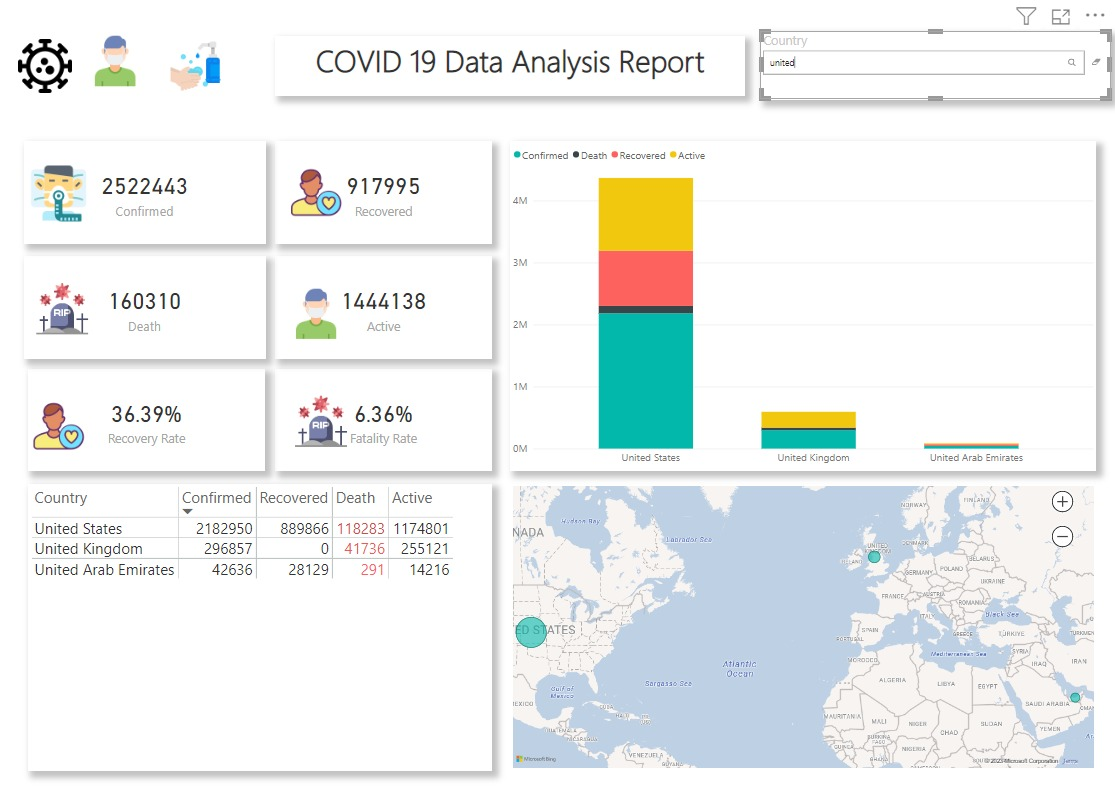

The page's visual inventory and layout, read from the dashboard file:
{"tool":"powerbi","page":{"name":"DataAnalysis Covid","canvas":[1800,1300],"ordinal":0},"visuals":[{"type":"card","fields":{"Values":["Sum(countries.Recovered)"]},"box":[448.5,232.2,347.3,164.7],"z":0},{"type":"card","fields":{"Values":["Sum(countries.Death)"]},"box":[45.6,416.8,387,164.7],"z":1000},{"type":"image","box":[32,64,96,96],"z":2000},{"type":"image","box":[144,48,96,112],"z":3000},{"type":"image","box":[466.4,258,97.2,113.1],"z":4000},{"type":"image","box":[51.6,452.5,111.1,95.3],"z":5000},{"type":"image","box":[272,64,96,96],"z":6000},{"type":"textbox","box":[448,64,752,96],"z":7000},{"type":"card","fields":{"Values":["Sum(countries.Confirmed)"]},"box":[45.6,232.2,387,164.7],"z":8000},{"type":"image","box":[51.6,263.9,99.2,103.2],"z":9000},{"type":"card","fields":{"Values":["Sum(countries.Active)"]},"box":[448.5,416.8,347.3,164.7],"z":10000},{"type":"card","fields":{"Values":["countries.Recovery Rate"]},"box":[51.6,595.4,381,164.7],"z":11000},{"type":"card","fields":{"Values":["countries.Fatality Rate"]},"box":[448.5,595.4,347.3,164.7],"z":12000},{"type":"image","box":[466.4,631.1,111.1,95.3],"z":13000},{"type":"image","box":[466.4,452.5,95.3,113.1],"z":14000},{"type":"image","box":[53.6,631.1,97.2,113.1],"z":15000},{"type":"columnChart","fields":{"Category":["countries.Country"],"Y":["Sum(countries.Confirmed)","Sum(countries.Death)","Sum(countries.Recovered)","Sum(countries.Active)"]},"box":[823.6,232.2,938.7,527.9],"z":16000},{"type":"tableEx","fields":{"Values":["countries.Country","Sum(countries.Confirmed)","Sum(countries.Recovered)","Sum(countries.Death)","Sum(countries.Active)"]},"box":[51.6,779.9,744.2,460.4],"z":17000},{"type":"map","fields":{"Category":["countries.Country"],"Size":["Sum(countries.Confirmed)"]},"box":[823.6,779.9,938.7,460.4],"z":18000},{"type":"textFilter25A4896A83E0487089E2B90C9AE57C8A","fields":{"field":["countries.Country"]},"box":[1224.5,55.6,561.6,111.1],"z":19000}]}

Visuals, with their boxes on the page's 1800x1300 design canvas (x1, y1, x2, y2). These are canvas units, not pixel positions in the 1115x786 screenshot, which may show the page scaled, cropped or inside an application window:
card - Sum(countries.Recovered): bbox=(448, 232, 796, 397)
card - Sum(countries.Death): bbox=(46, 417, 433, 582)
image: bbox=(32, 64, 128, 160)
image: bbox=(144, 48, 240, 160)
image: bbox=(466, 258, 564, 371)
image: bbox=(52, 452, 163, 548)
image: bbox=(272, 64, 368, 160)
textbox: bbox=(448, 64, 1200, 160)
card - Sum(countries.Confirmed): bbox=(46, 232, 433, 397)
image: bbox=(52, 264, 151, 367)
card - Sum(countries.Active): bbox=(448, 417, 796, 582)
card - countries.Recovery Rate: bbox=(52, 595, 433, 760)
card - countries.Fatality Rate: bbox=(448, 595, 796, 760)
image: bbox=(466, 631, 578, 726)
image: bbox=(466, 452, 562, 566)
image: bbox=(54, 631, 151, 744)
columnChart - countries.Country x Sum(countries.Confirmed): bbox=(824, 232, 1762, 760)
tableEx - countries.Country x Sum(countries.Confirmed): bbox=(52, 780, 796, 1240)
map - countries.Country x Sum(countries.Confirmed): bbox=(824, 780, 1762, 1240)
textFilter25A4896A83E0487089E2B90C9AE57C8A - countries.Country: bbox=(1224, 56, 1786, 167)
